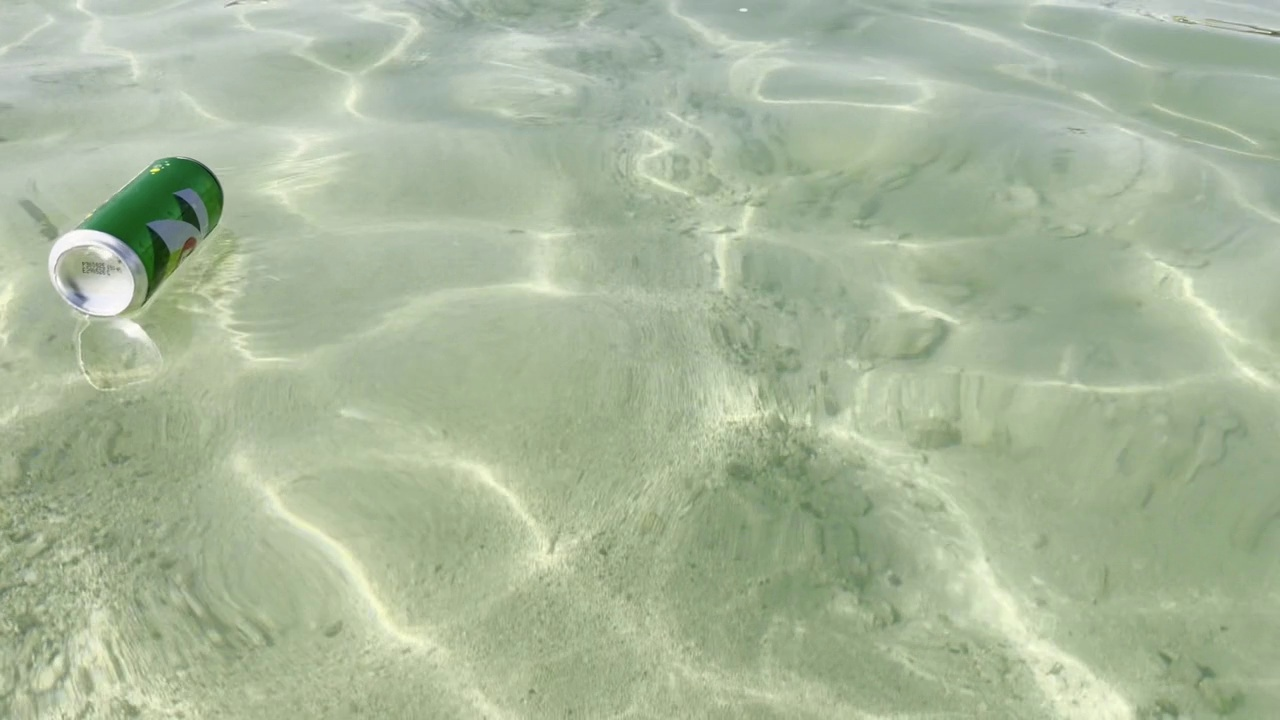debris: (44, 136, 233, 324)
